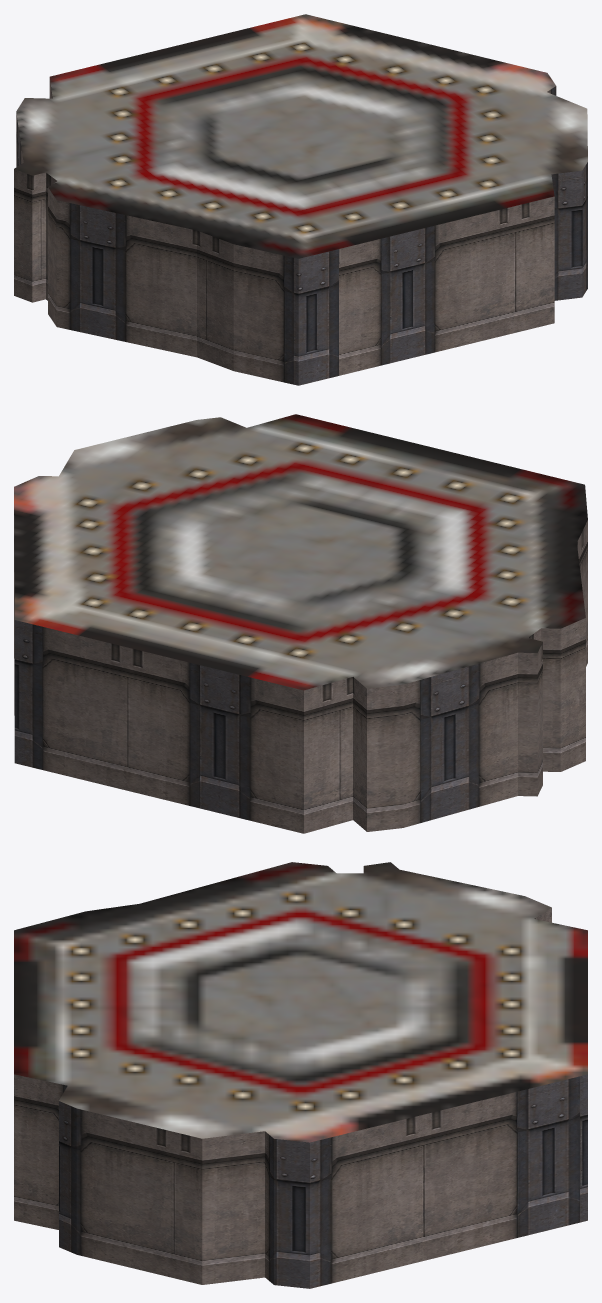
The model's file is bsealed_hard_36.glb.
3 views of the same model, one above another, from view 1: azimuth 30°, elevation 25°; view 2: azimuth 150°, elevation 25°; view 3: azimuth 270°, elevation 25° (orthographic). The views are drawn at different scales.
Parts seen in each view (by area): view 1: buildings/saxarba/bsealed_hard/bsealed_hard_36; view 2: buildings/saxarba/bsealed_hard/bsealed_hard_36; view 3: buildings/saxarba/bsealed_hard/bsealed_hard_36.
Part boxes in pixels (x1=…): buildings/saxarba/bsealed_hard/bsealed_hard_36: x1=14, y1=14, x2=587, y2=385; buildings/saxarba/bsealed_hard/bsealed_hard_36: x1=14, y1=414, x2=587, y2=833; buildings/saxarba/bsealed_hard/bsealed_hard_36: x1=14, y1=862, x2=587, y2=1288.
Size of the model in its own units: 74 by 18 by 64.
